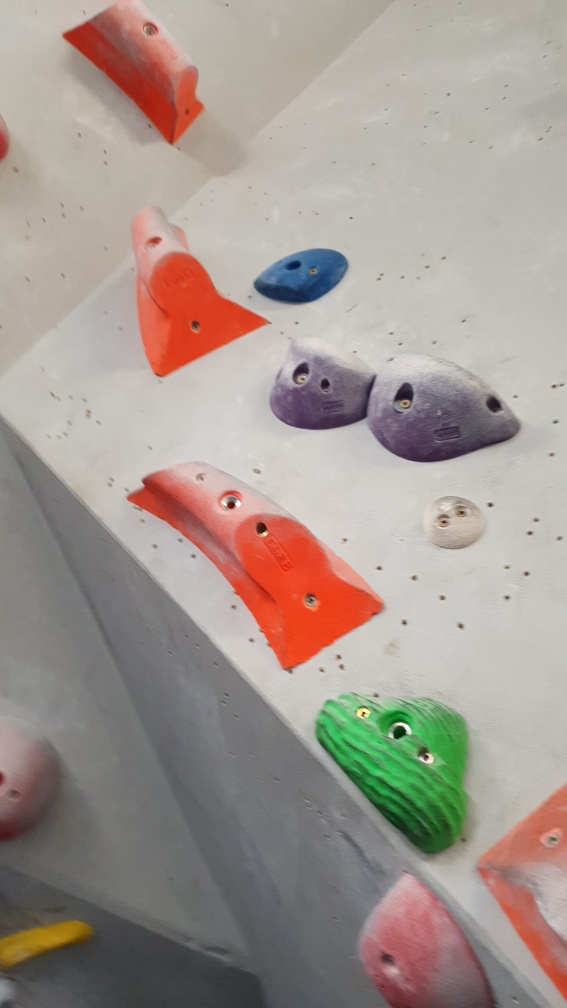Crimp: (252, 243, 353, 307)
Jug: (317, 684, 476, 857), (366, 353, 524, 463), (269, 336, 380, 430)
Pinch: (126, 454, 385, 674), (127, 203, 272, 384), (475, 776, 567, 1005), (62, 4, 206, 141)
